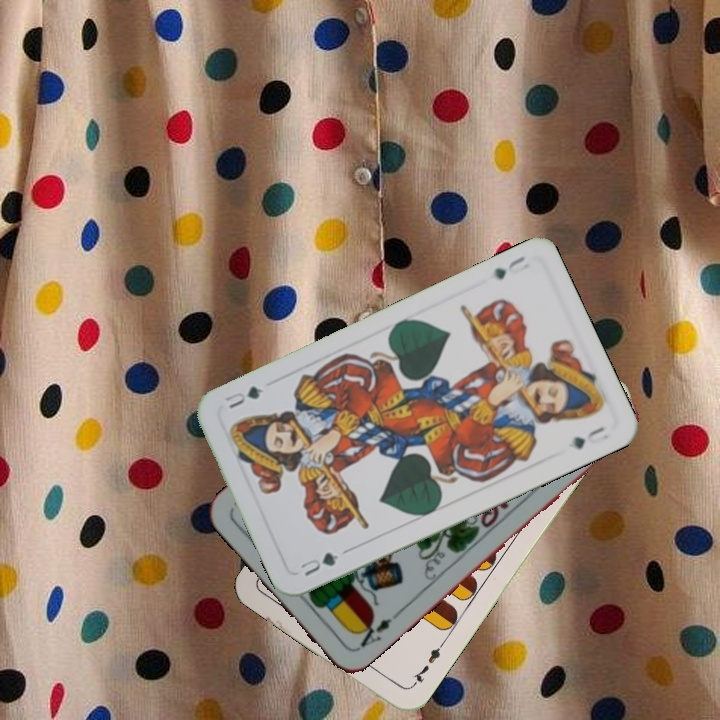E7: (406, 639, 447, 690)
EA: (351, 609, 401, 654)
GU: (296, 548, 341, 579), (490, 252, 532, 282)
